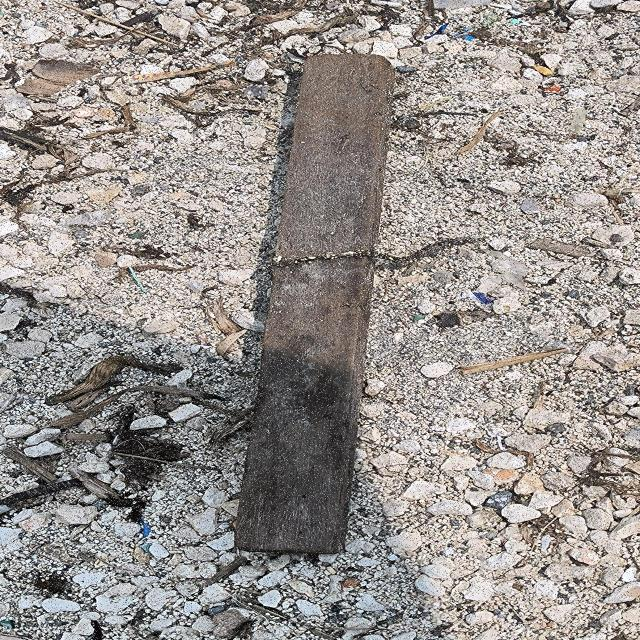wood_waste: (234, 54, 396, 554)
